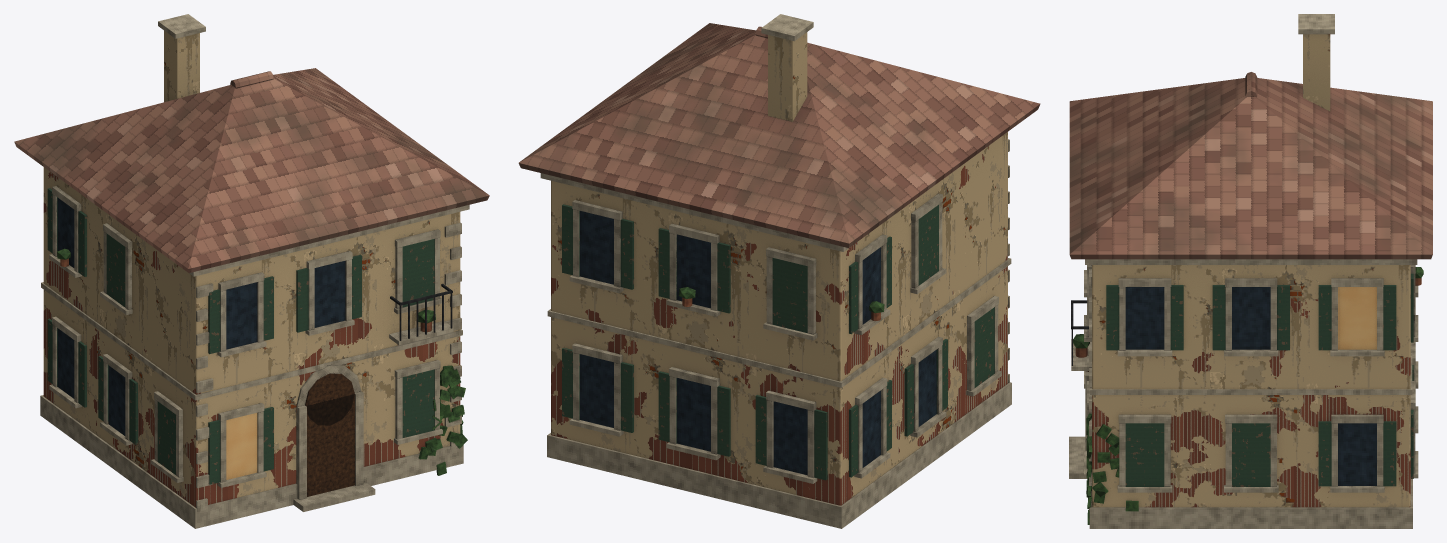
The model's file is siracusa_house_a.glb.
3 views of the same model, side by side, from view 1: azimuth 30°, elevation 25°; view 2: azimuth 150°, elevation 25°; view 3: azimuth 270°, elevation 25° (orthographic). The views are drawn at different scales.
Visible parts, largest first — view 1: siracusa_house_a; view 2: siracusa_house_a; view 3: siracusa_house_a.
Part boxes in pixels (x1,y1,x2,y2): siracusa_house_a: (14,14,489,528); siracusa_house_a: (518,14,1040,528); siracusa_house_a: (1069,14,1432,528).
Bounding box in the file's own units: 7.98 × 10.31 × 7.99.
10 materials, 10 textured.
